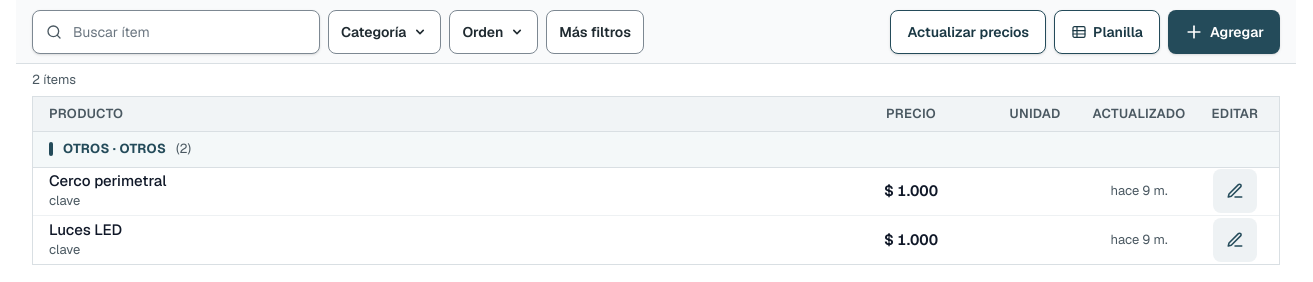
Test: CatalogoPage · lectura › la búsqueda filtra por descripción
Type "cerco" into the field named "Buscar en el catálogo" at (176, 32), box [32,10,320,54]
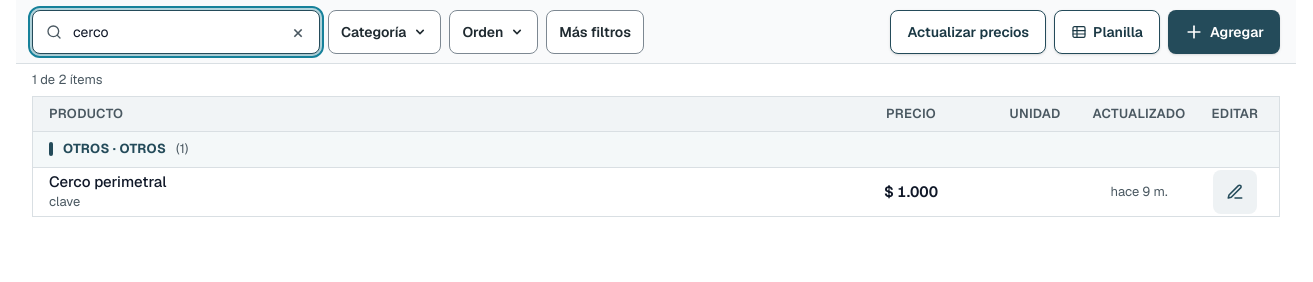
Expected: the text "Cerco perimetral" is shown, [49,172,166,190]
Expected: the text "Luces LED" is gone
